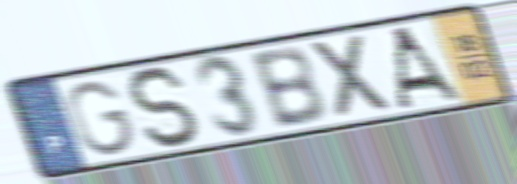3: (195, 51, 262, 143)
A: (394, 23, 466, 111)
B: (245, 43, 329, 132)
G: (63, 78, 139, 159)
S: (123, 64, 207, 151)
X: (305, 30, 398, 123)
